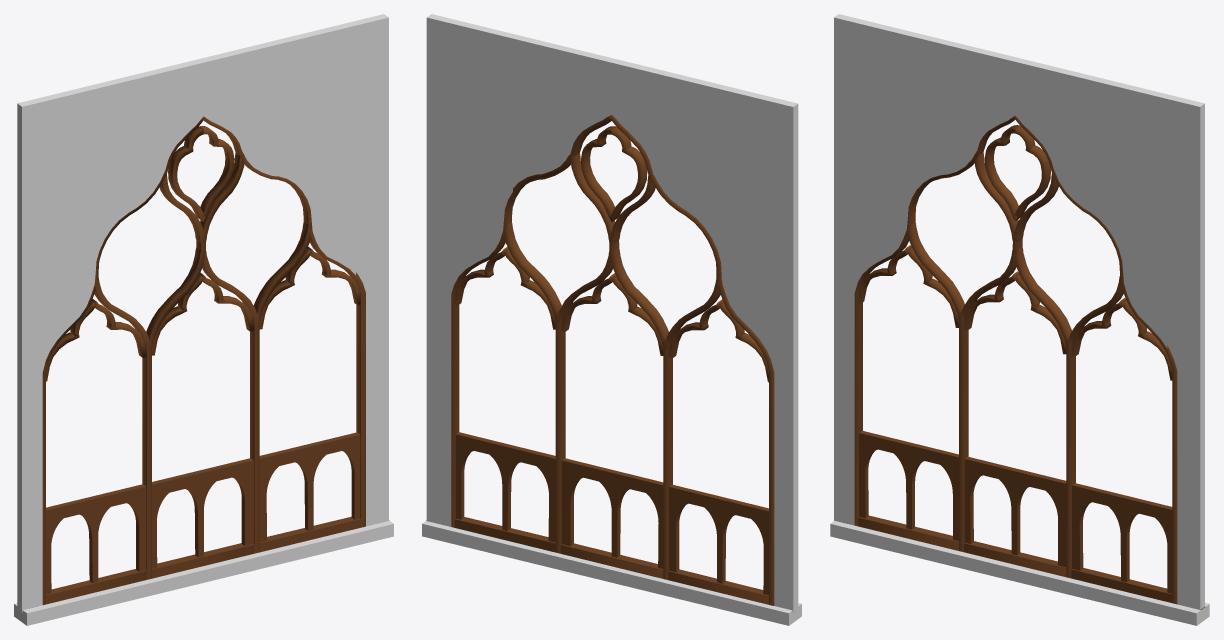
File: Ściana2.fbx
3 views of the same model, side by side, from view 1: azimuth 30°, elevation 25°; view 2: azimuth 150°, elevation 25°; view 3: azimuth 330°, elevation 25° (orthographic).
Visible parts, largest first — view 1: Cube.015; view 2: Cube.015; view 3: Cube.015.
Part boxes in pixels (<box>): Cube.015: <box>14,14,393,625</box>; Cube.015: <box>422,14,801,625</box>; Cube.015: <box>830,14,1209,625</box>.
Size of the model in its own units: 3.69 by 4.95 by 0.2268.
